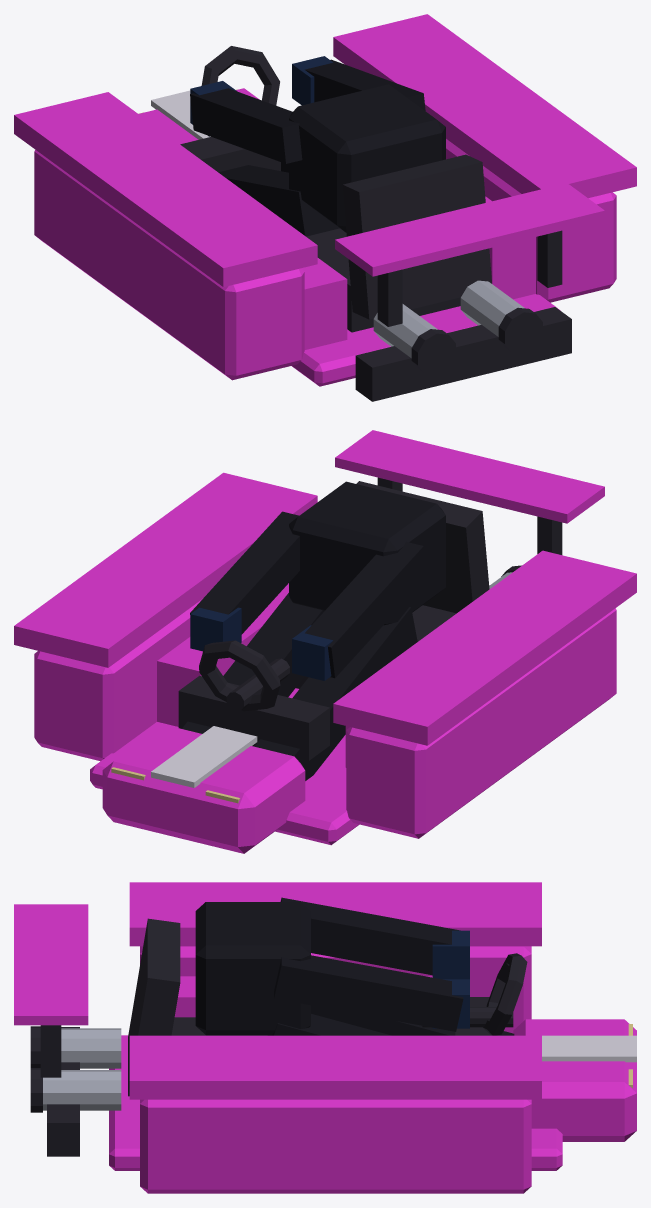
Rendered from miguel_body.glb.
3 renders of one model, top to bottom at view 1: azimuth 30°, elevation 25°; view 2: azimuth 150°, elevation 25°; view 3: azimuth 270°, elevation 25°, orthographic.
Parts seen in each view (by area): view 1: miguel_body; view 2: miguel_body; view 3: miguel_body.
Part boxes in pixels (x1,y1,x2,y2): miguel_body: (14,14,636,401); miguel_body: (14,430,636,853); miguel_body: (14,882,636,1193).
Bounding box in the file's own units: 11.4 × 5.1 × 15.1.
